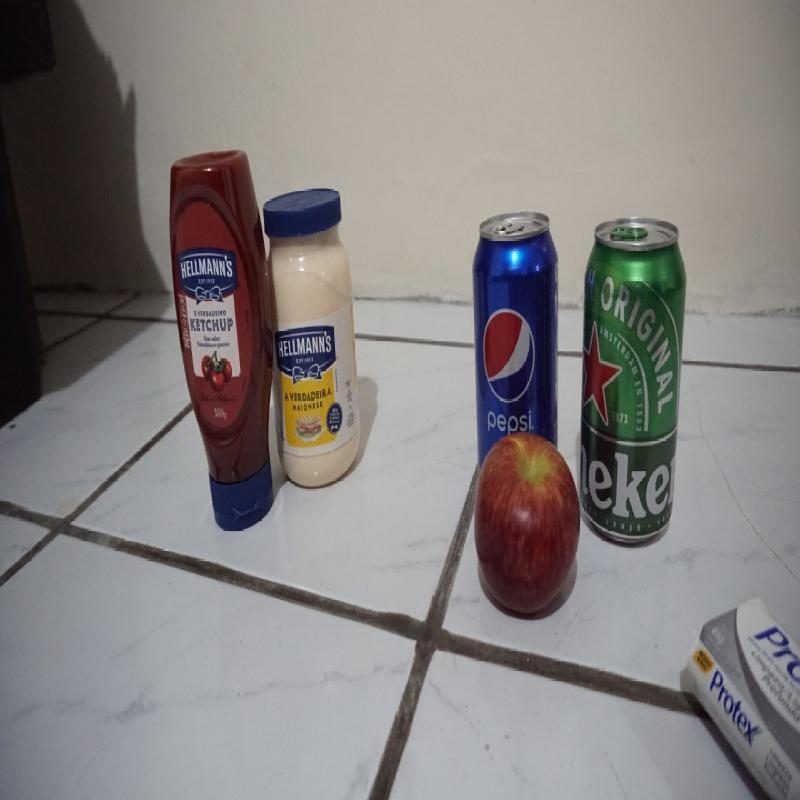Apple: (473, 429, 581, 612)
Beer can: (579, 216, 688, 548)
Ketchup: (169, 148, 274, 532)
Mayonnaise: (263, 185, 359, 487)
Soap: (685, 598, 800, 800)
Soda can: (471, 210, 560, 501)
